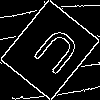U: (25, 24, 83, 84)
